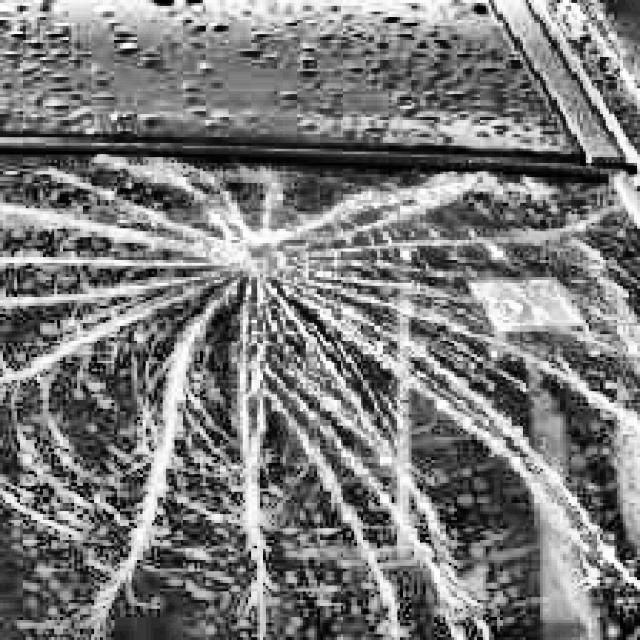glass_shatter: (109, 190, 405, 412)
